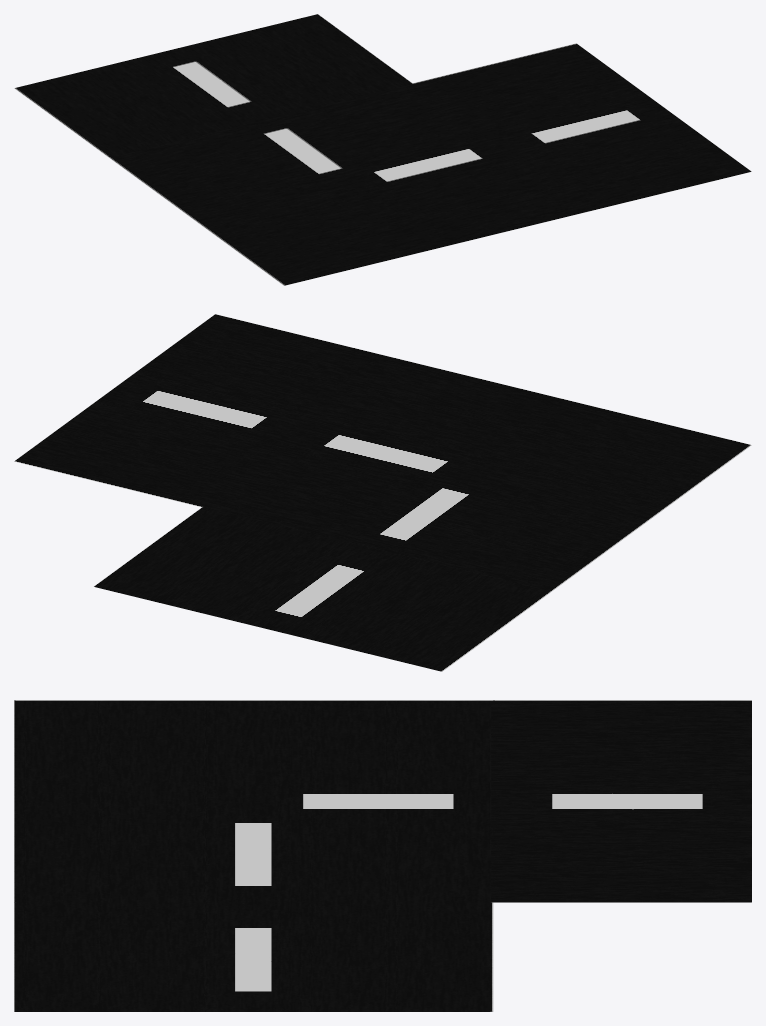
The model's file is Road_Corner.fbx.
The picture shows the model from 3 angles, top to bottom: view 1: azimuth 30°, elevation 25°; view 2: azimuth 150°, elevation 25°; view 3: azimuth 270°, elevation 25°; orthographic projection. The views are drawn at different scales.
Parts seen in each view (by area): view 1: polySurface1; view 2: polySurface1; view 3: polySurface1.
Boxes of the visible parts, x1=… form: polySurface1: x1=14, y1=14, x2=751, y2=285; polySurface1: x1=14, y1=314, x2=751, y2=671; polySurface1: x1=14, y1=700, x2=751, y2=1011.
Size of the model in its own units: 51.47 by 0 by 51.47.
Materials: 1 (1 with a texture image).
